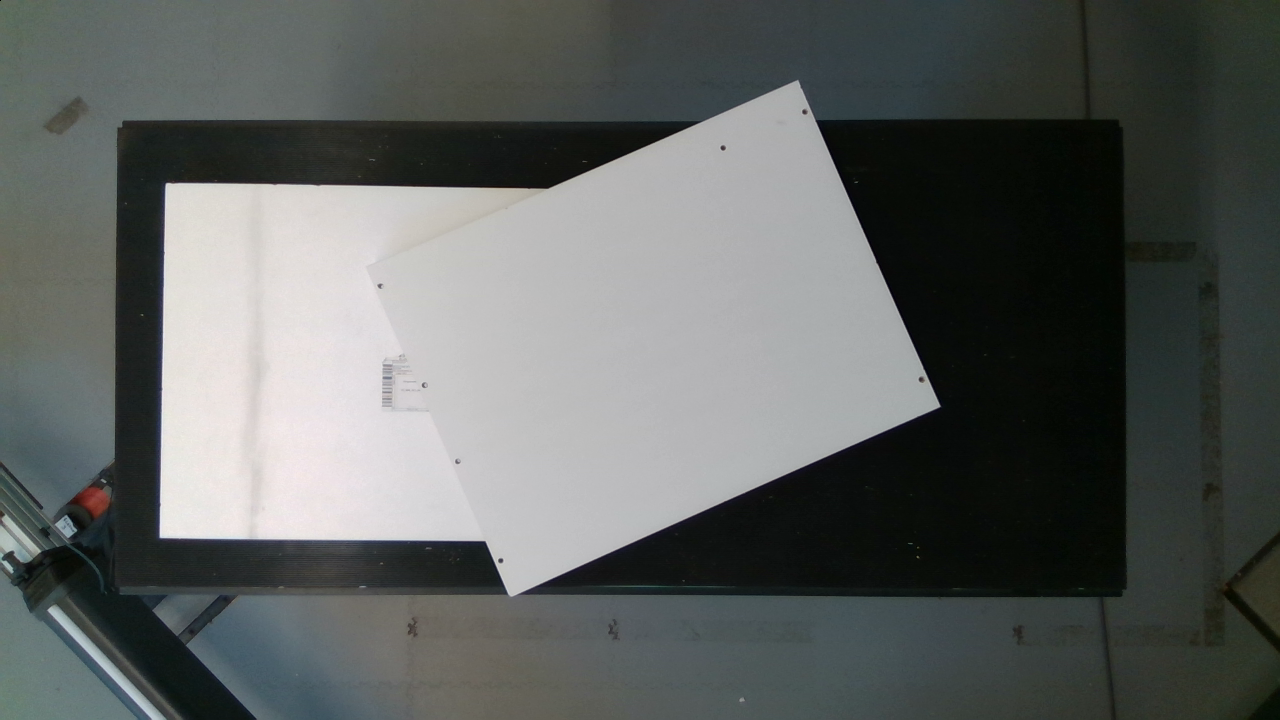barcode: (363, 324, 444, 425)
part2: (356, 68, 941, 590)
